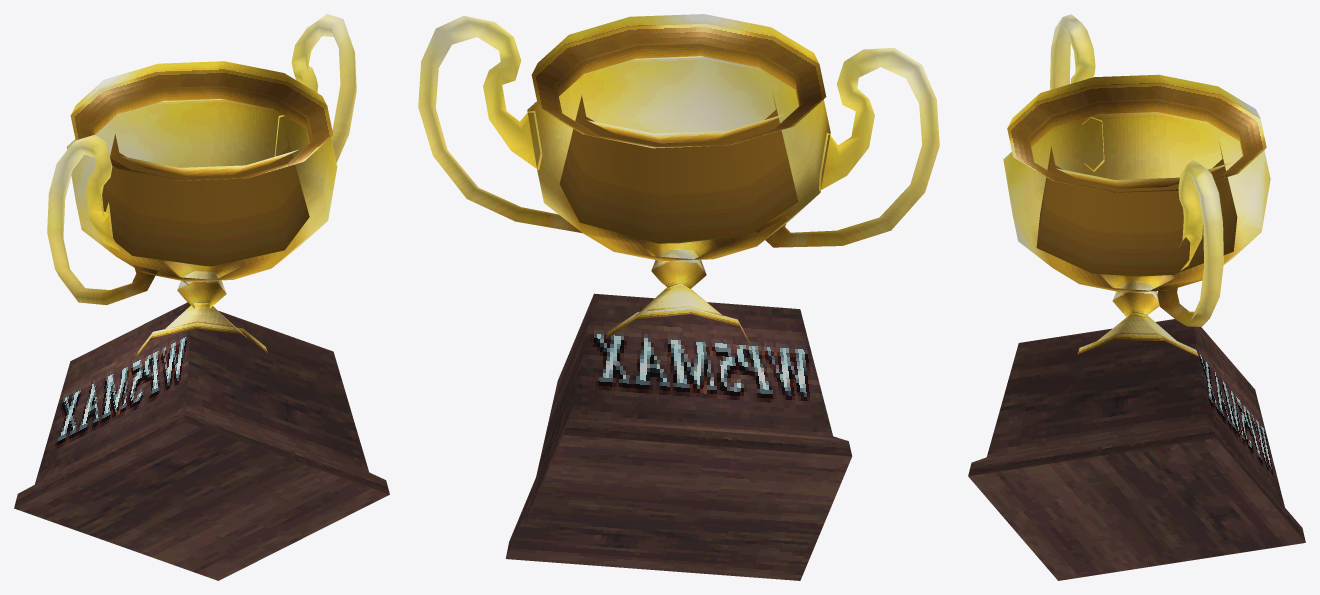
Rendered from ps2_save-icons_winningpost5maximum2002-jockey.glb.
The picture shows the model from 3 angles, left to right: view 1: azimuth 30°, elevation 25°; view 2: azimuth 150°, elevation 25°; view 3: azimuth 270°, elevation 25°; orthographic projection. The views are drawn at different scales.
Parts seen in each view (by area): view 1: ic_owner.icn; view 2: ic_owner.icn; view 3: ic_owner.icn.
Part boxes in pixels (bbox=[...]): ic_owner.icn: bbox=[14, 14, 389, 580]; ic_owner.icn: bbox=[418, 14, 939, 580]; ic_owner.icn: bbox=[968, 14, 1305, 580].
Size of the model in its own units: 3.5 by 3.69 by 2.69.
1 material, 1 textured.
